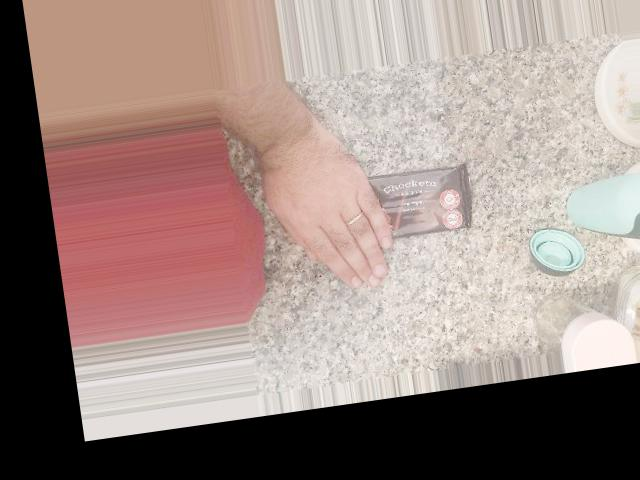chocolate: (313, 149, 481, 256)
